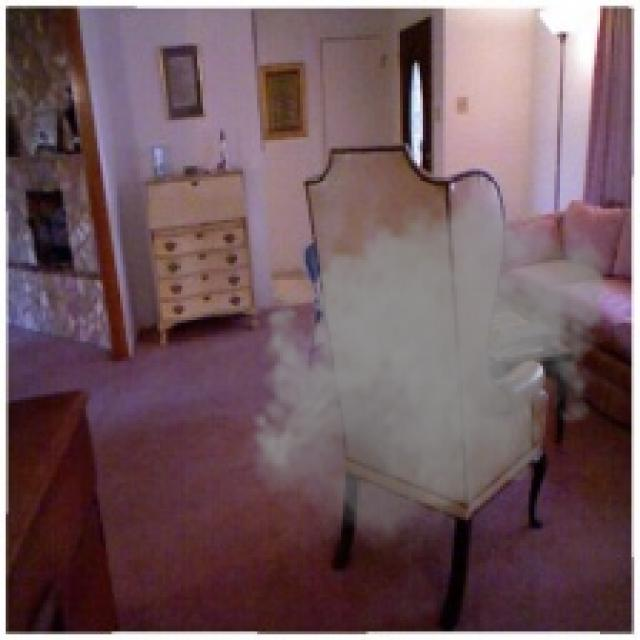smoke: (240, 183, 614, 560)
